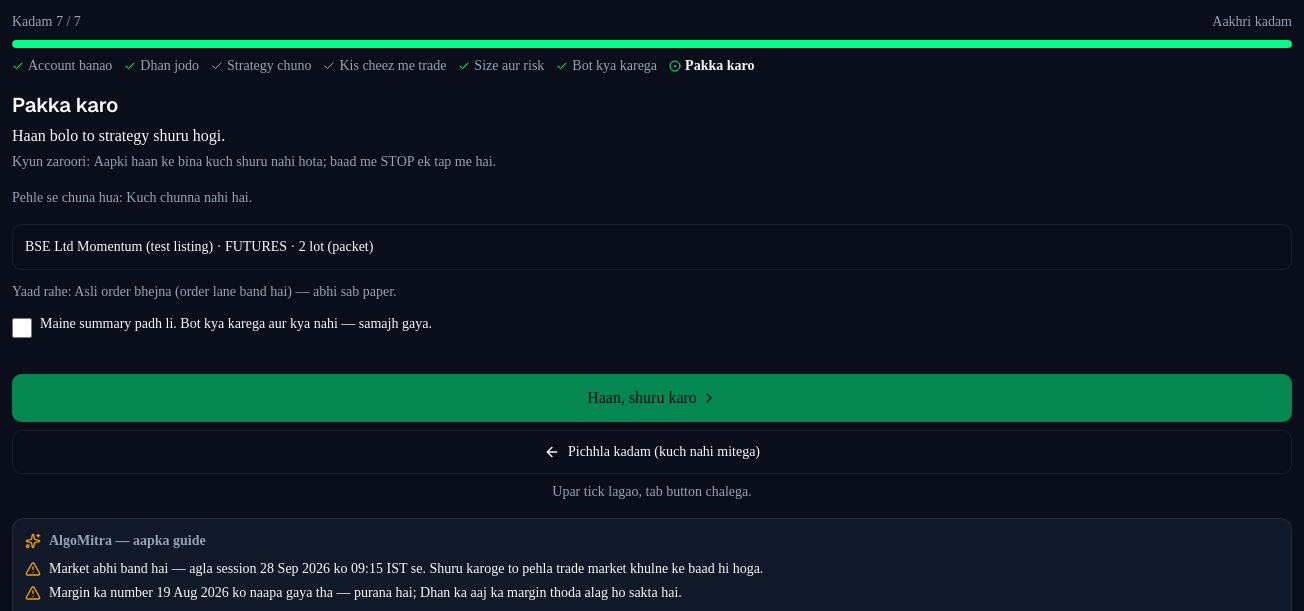
every screen has a way forward, a way back and the guide › the confirm button stays shut until the tick
Expected: the element with test id "screen-CONFIRM" is shown, [12, 224, 1292, 358]
Expected: the button with test id "guided-next" is disabled, [12, 374, 1292, 422]
Click the checkbox with test id "confirm-ack".
click(22, 328)  # box [12, 318, 32, 338]
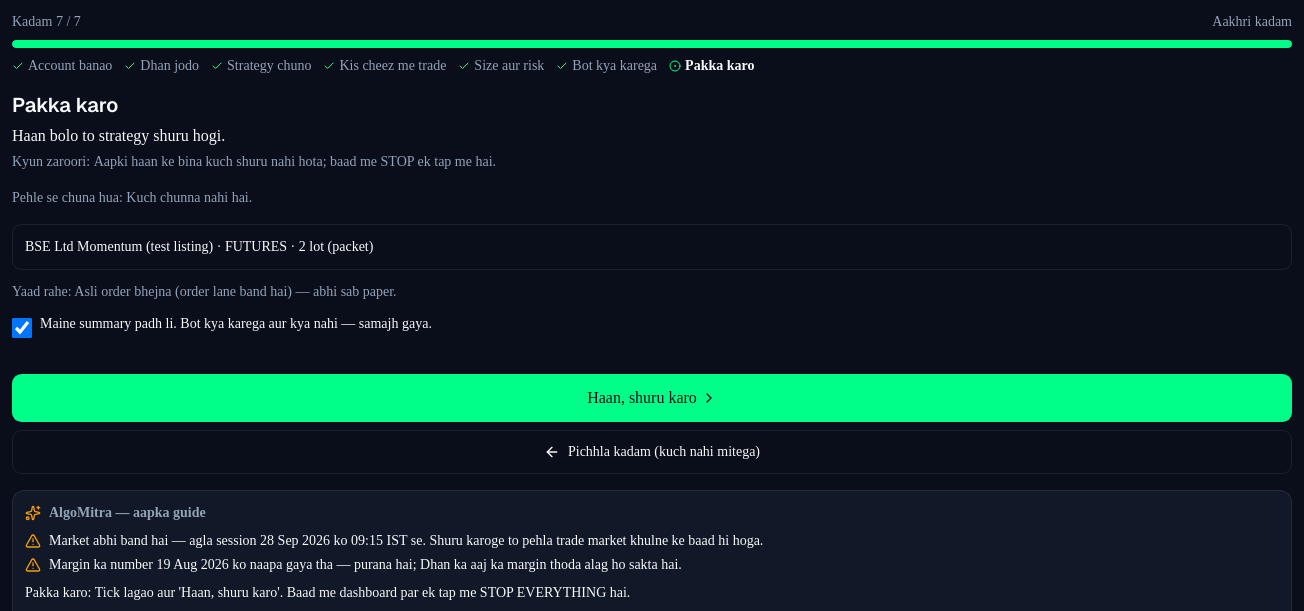
Expected: the button with test id "guided-next" is enabled, [12, 374, 1292, 422]
